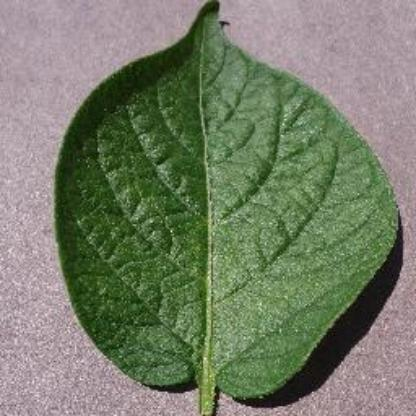Healthy-plant: (50, 0, 402, 416)
